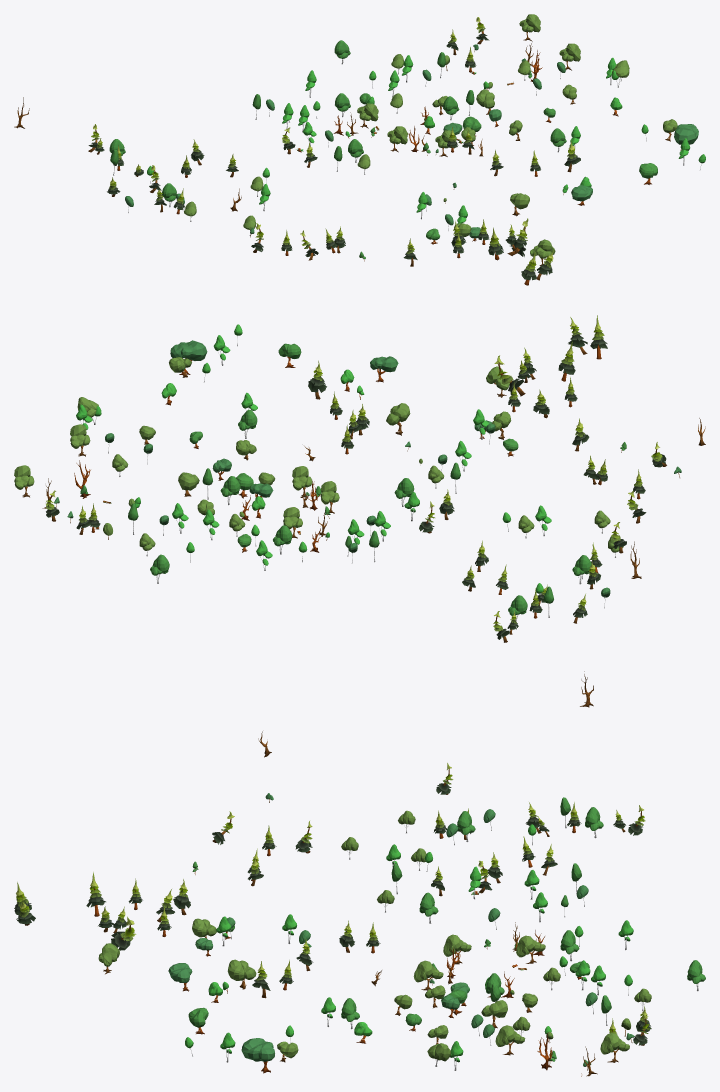
The model's file is Trees.fbx.
3 views of the same model, one above another, from view 1: azimuth 30°, elevation 25°; view 2: azimuth 150°, elevation 25°; view 3: azimuth 270°, elevation 25° (orthographic). The views are drawn at different scales.
Visible parts, largest first — view 1: no part large enough to name; view 2: Tree_03_5; view 3: Tree_03_5.
Boxes of the visible parts, left/top/right/bottom form: Tree_03_5: left=170, top=340, right=207, bottom=375; Tree_03_5: left=241, top=1038, right=274, bottom=1073.
Size of the model in its own units: 27959 by 4989 by 25638.
